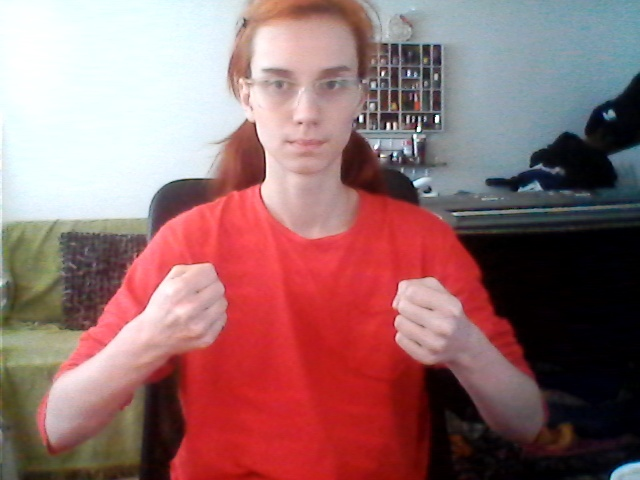auto: (155, 240, 474, 390)
